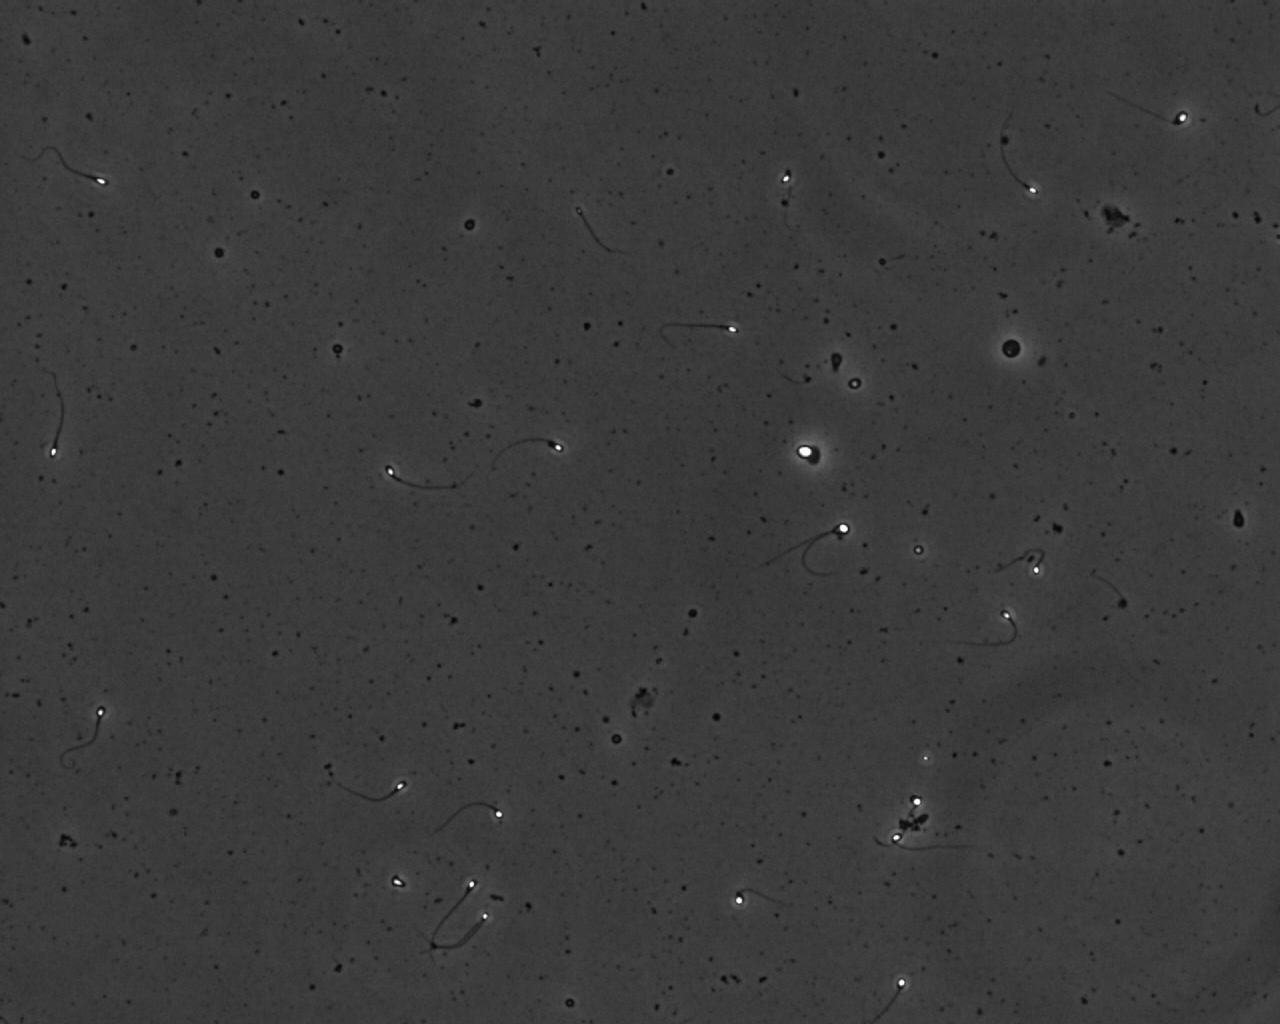cell: (998, 335, 1024, 362)
